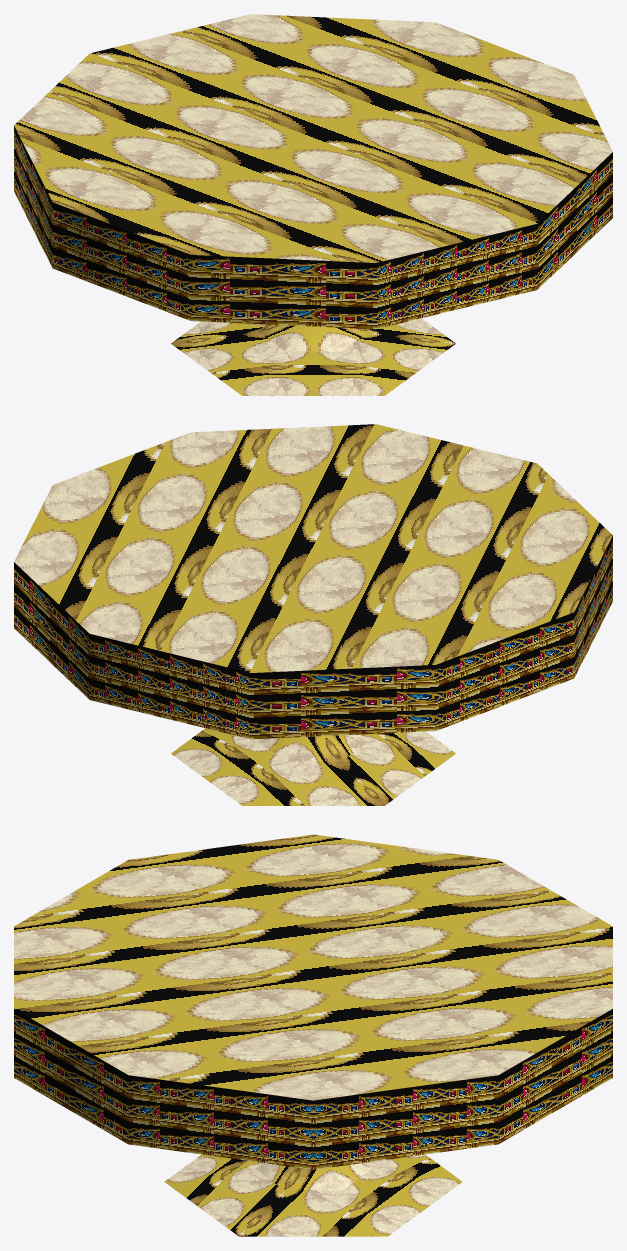
3 renders of one model, top to bottom at view 1: azimuth 30°, elevation 25°; view 2: azimuth 150°, elevation 25°; view 3: azimuth 270°, elevation 25°, orthographic. The views are drawn at different scales.
Parts seen in each view (by area): view 1: 3605kg_16_ta0; view 2: 3605kg_16_ta0; view 3: 3605kg_16_ta0.
Boxes of the visible parts, <box> form: 3605kg_16_ta0: <box>14,14,612,395</box>; 3605kg_16_ta0: <box>14,424,612,805</box>; 3605kg_16_ta0: <box>14,834,612,1236</box>.
Bounding box in the file's own units: 2 × 0.75 × 1.9.
Materials: 2 (2 with a texture image).
